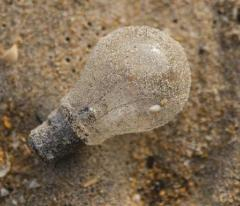lightbulb: (26, 24, 192, 166)
